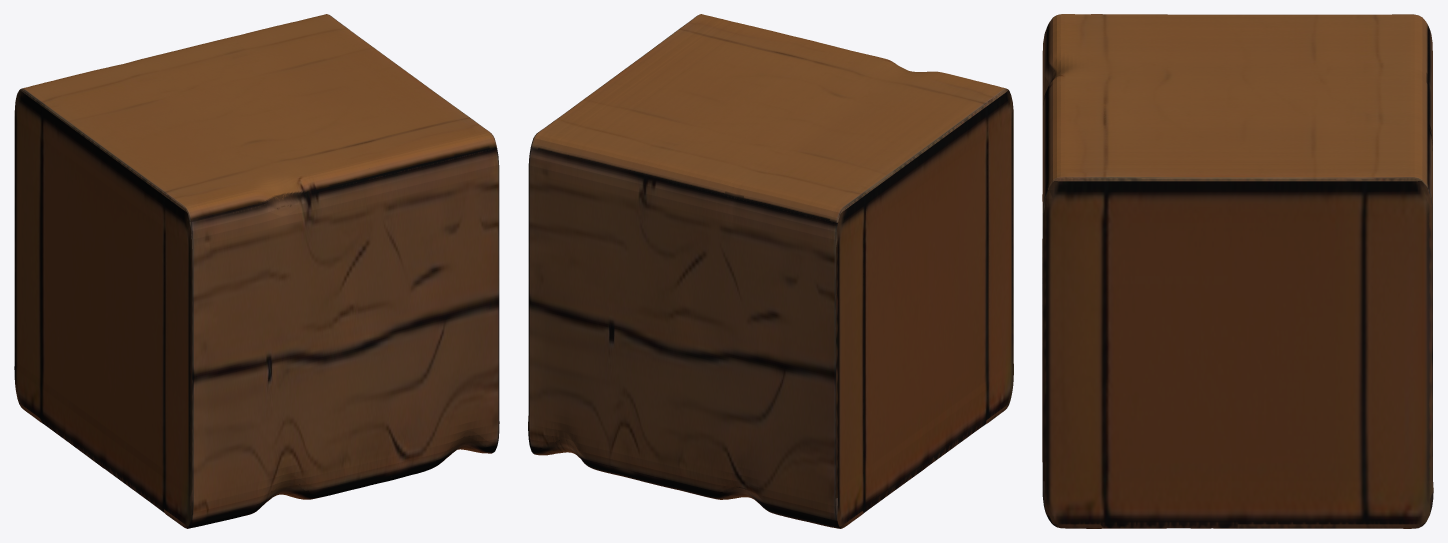
File: foundation-timber.glb
3 renders of one model, left to right at view 1: azimuth 30°, elevation 25°; view 2: azimuth 150°, elevation 25°; view 3: azimuth 270°, elevation 25°, orthographic. The views are drawn at different scales.
Parts seen in each view (by area): view 1: tmpgjrti1gt.ply; view 2: tmpgjrti1gt.ply; view 3: tmpgjrti1gt.ply.
Part boxes in pixels (x1,y1,x2,y2): tmpgjrti1gt.ply: [14, 14, 499, 528]; tmpgjrti1gt.ply: [528, 14, 1013, 528]; tmpgjrti1gt.ply: [1042, 14, 1433, 528].
Bounding box in the file's own units: 1 × 1 × 1.
Materials: 1 (1 with a texture image).
